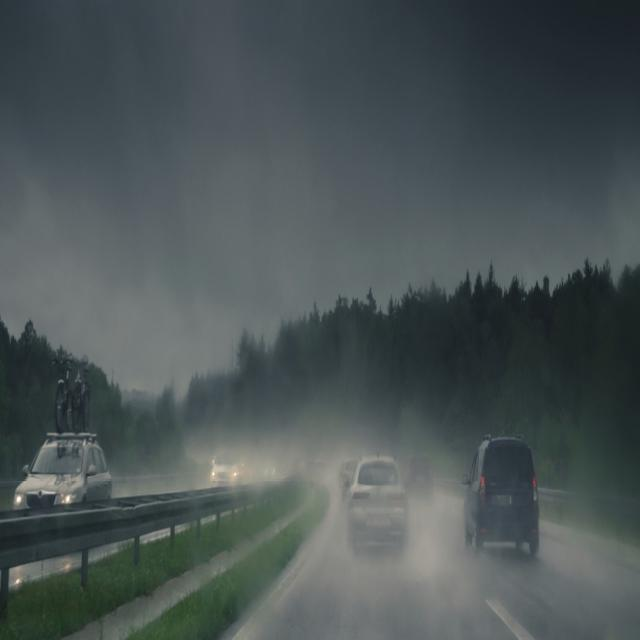car: (463, 433, 540, 561), (14, 430, 112, 500), (346, 456, 406, 558), (404, 450, 434, 502), (207, 445, 245, 482)
